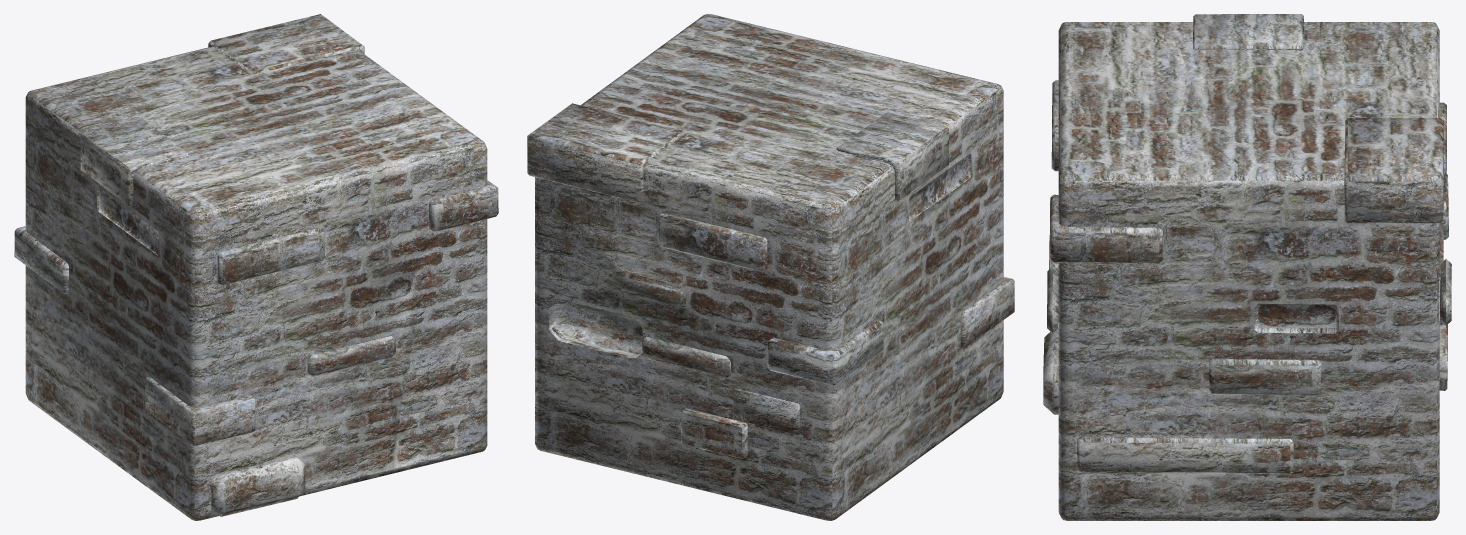
File: Dungeonblockdetailedfbxtest.FBX
3 views of the same model, side by side, from view 1: azimuth 30°, elevation 25°; view 2: azimuth 150°, elevation 25°; view 3: azimuth 270°, elevation 25° (orthographic). The views are drawn at different scales.
Parts seen in each view (by area): view 1: dungeonblockdeatiled; view 2: dungeonblockdeatiled; view 3: dungeonblockdeatiled.
Boxes of the visible parts, x1,y1,x2,y2 form: dungeonblockdeatiled: (14,14,498,520); dungeonblockdeatiled: (527,14,1014,520); dungeonblockdeatiled: (1043,14,1451,520).
Size of the model in its own units: 436 by 424 by 451.
